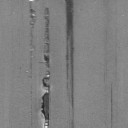slag inclusion: (64, 0, 75, 110), (39, 70, 51, 126), (43, 7, 50, 69), (29, 2, 37, 28), (110, 87, 114, 126), (72, 119, 74, 128)
